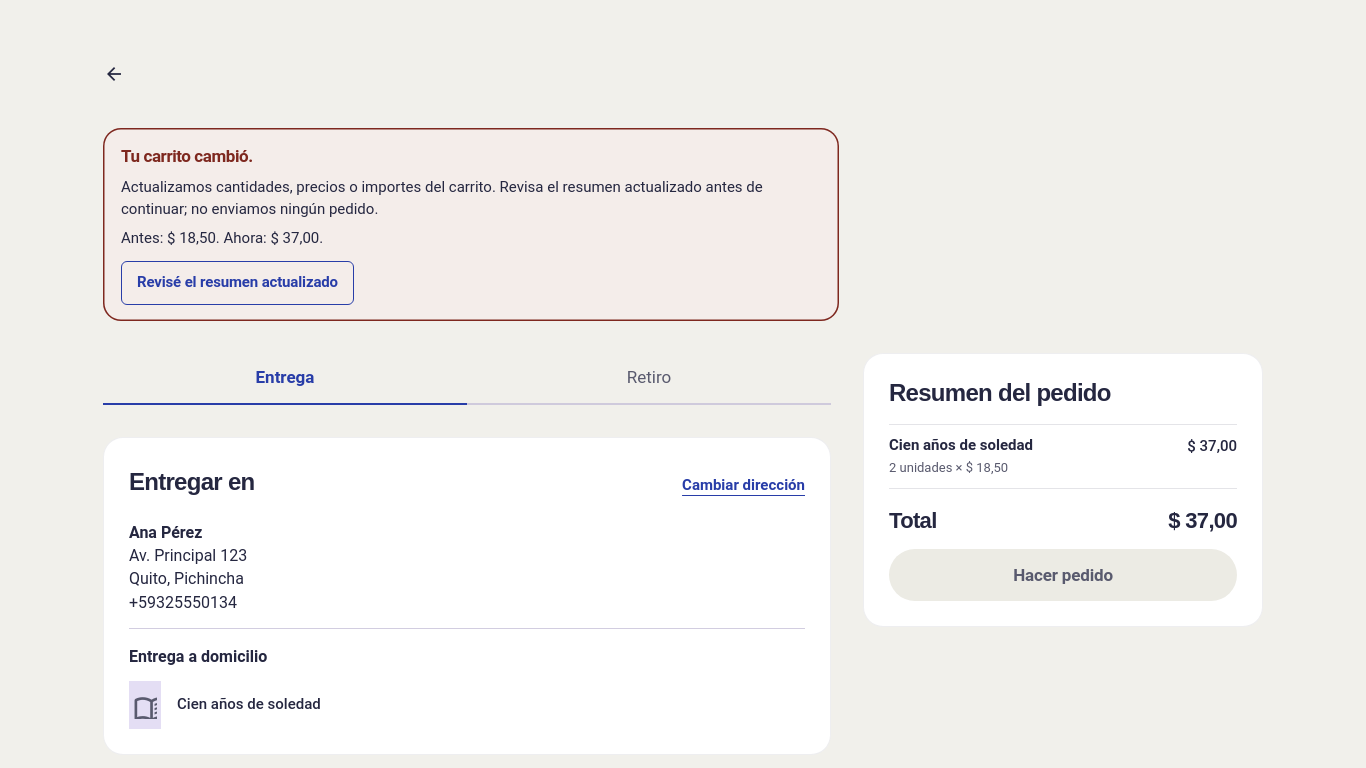
Test: production purchase corrections › ACCT-01 invalidates review again when a later visible-tab read changes the amount
expect the text "Av. Principal 123" is shown: met, box [129, 546, 247, 565]
Click the button "Revisé el resumen actualizado": coordinates (238, 283) [121, 261, 354, 305]
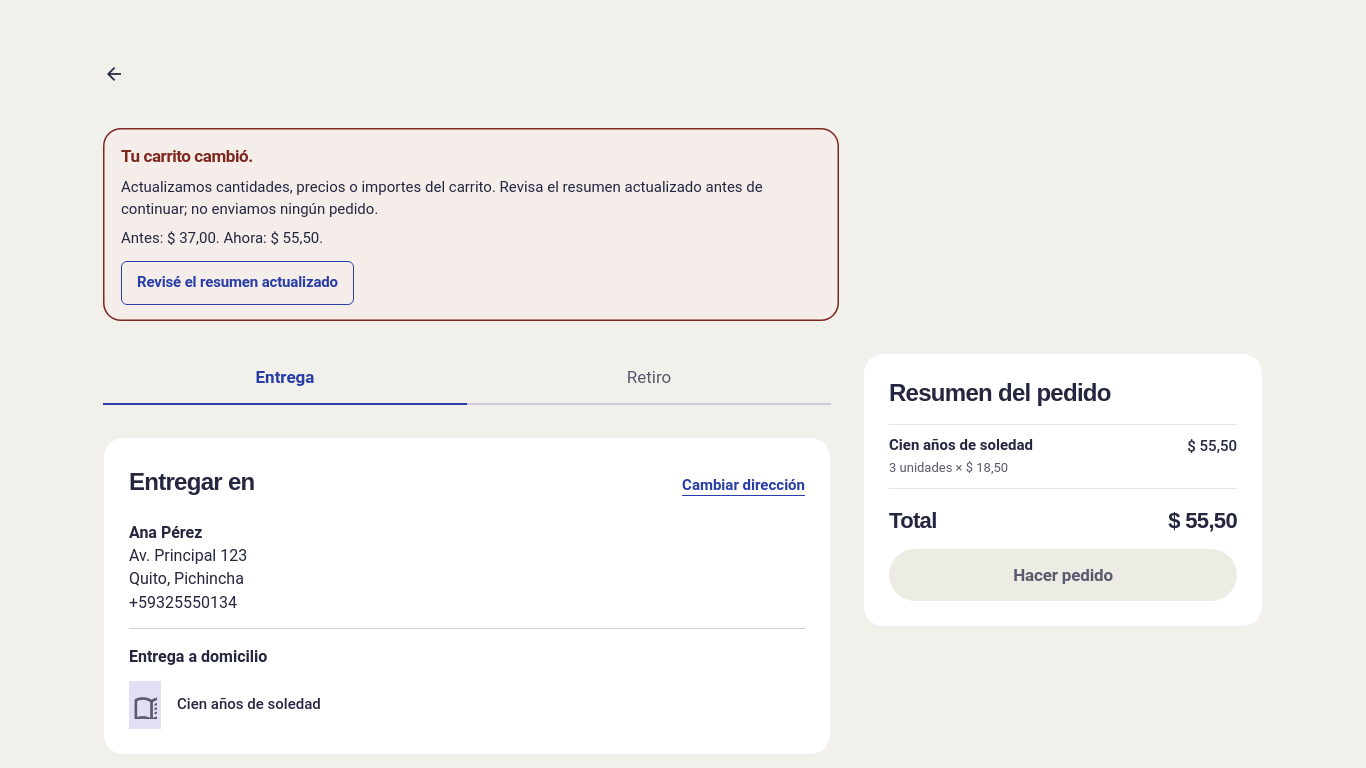
expect the message "Tu carrito cambió" shows "55,50": met, box [270, 228, 319, 246]
